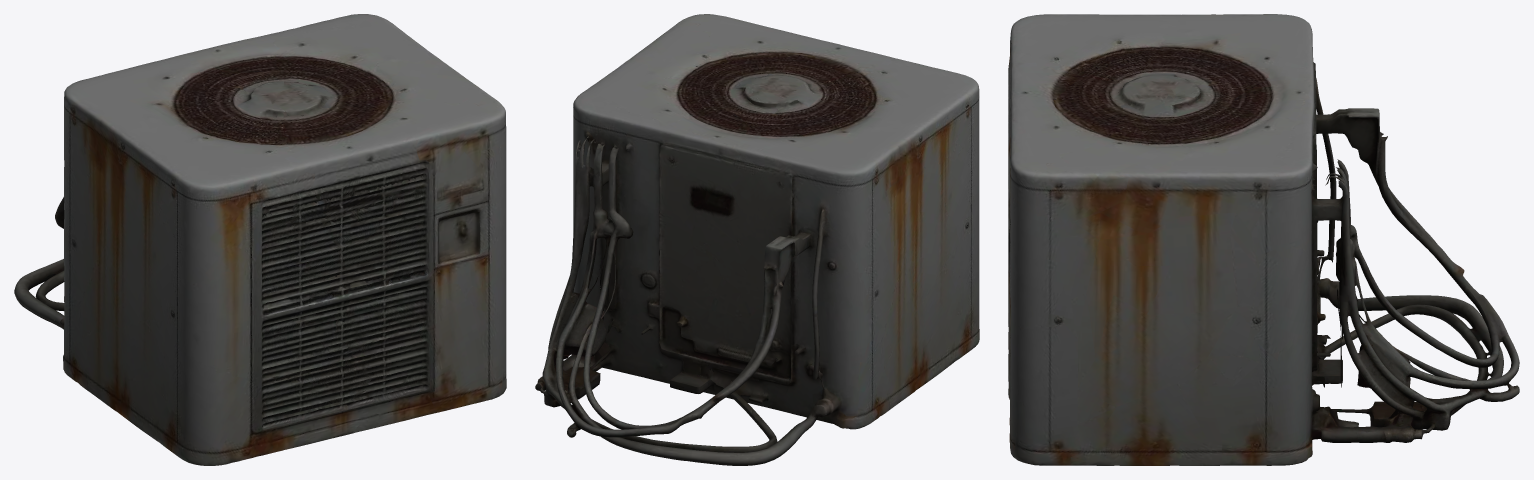
File: hvac-unit.glb
The picture shows the model from 3 angles, left to right: view 1: azimuth 30°, elevation 25°; view 2: azimuth 150°, elevation 25°; view 3: azimuth 270°, elevation 25°; orthographic projection. The views are drawn at different scales.
Parts seen in each view (by area): view 1: input; view 2: input; view 3: input.
Part boxes in pixels (left/top/right/bottom): input: left=14, top=14, right=506, bottom=465; input: left=535, top=14, right=979, bottom=465; input: left=1008, top=14, right=1519, bottom=465.
Size of the model in its own units: 0.5768 by 0.4828 by 0.76.
Materials: 1 (1 with a texture image).
